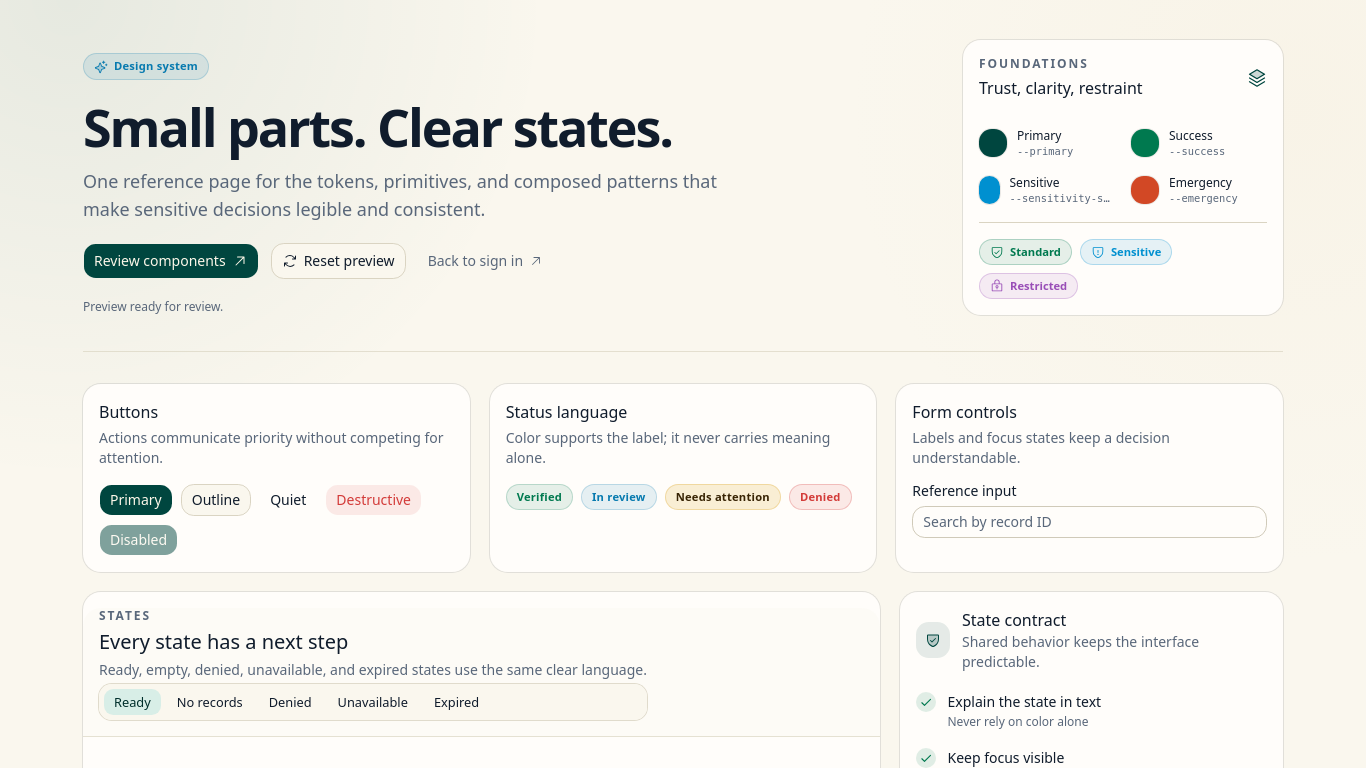
Test: shows a blocked state without exposing protected content
Step 1. Click the button "Denied" → (290,702), box [258, 688, 323, 716]
(page scrolled)
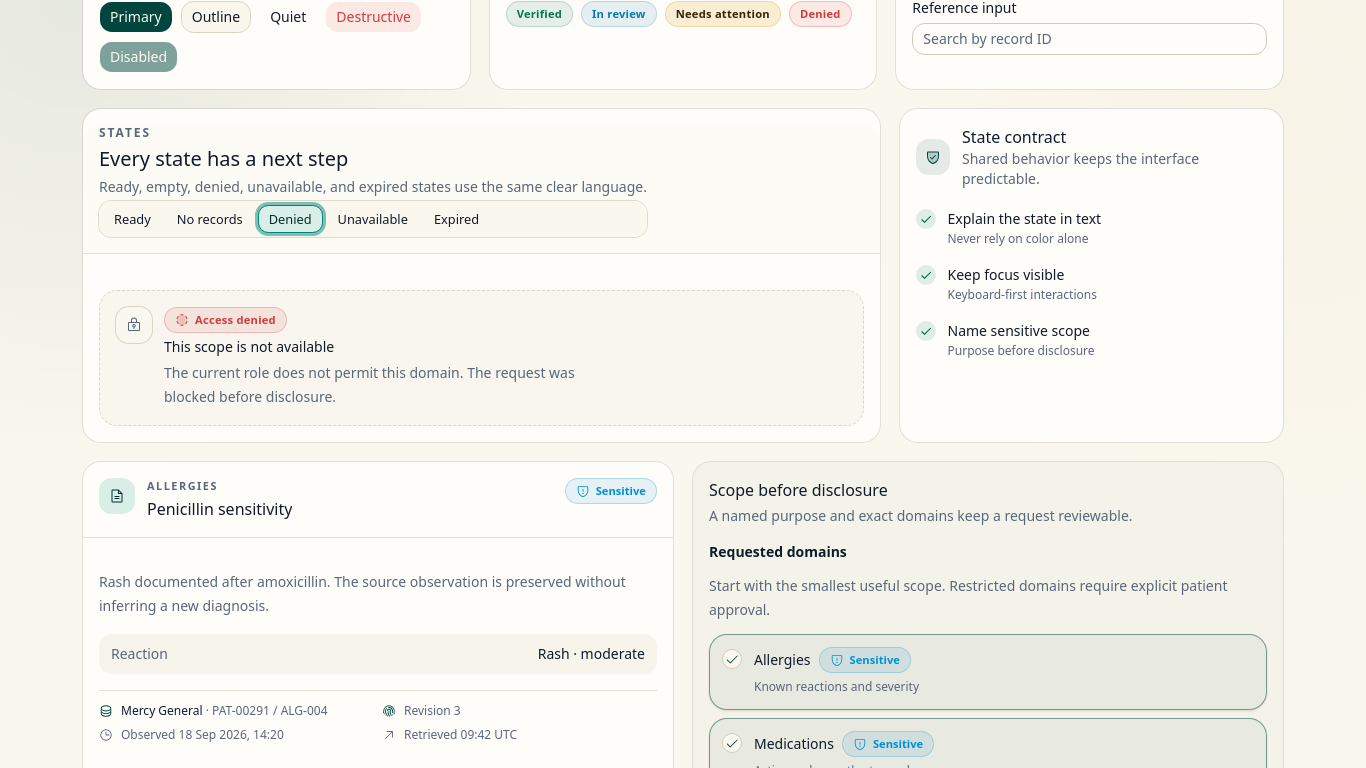
Check: the text "This scope is not available" is shown, box [164, 337, 334, 356]
